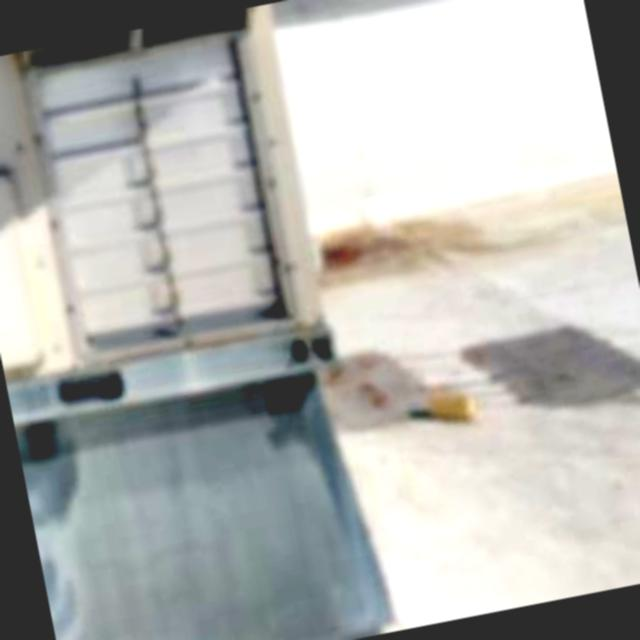RTU: (0, 0, 390, 461)
